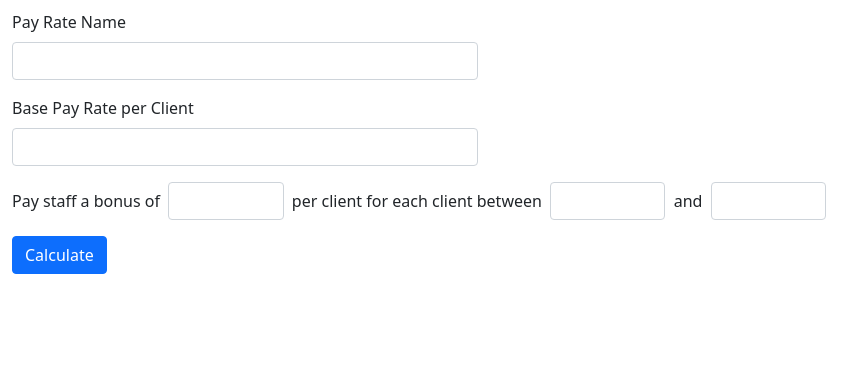
Test case: CalculatorForm › maxClients field validations › renders error message when field value is filled with a negative number
The width and height of the screenshot is (843, 366).
Type "-5" into the number field with test id "maxClients". click: {"x": 768, "y": 201}
box: [711,182,826,220]
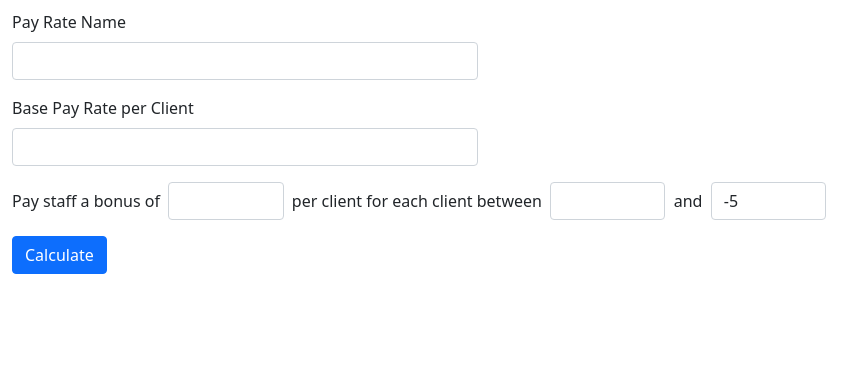
Submit the form from the button, box [12,236,107,274]
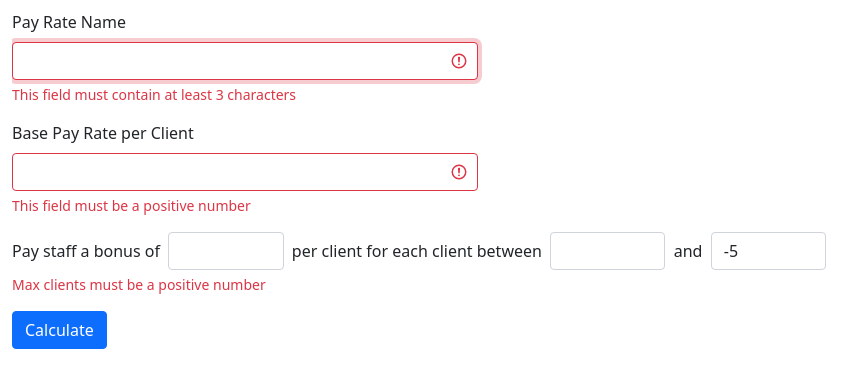
Expected: the text "Max clients must be a positive number" is shown, [12,275,266,294]
